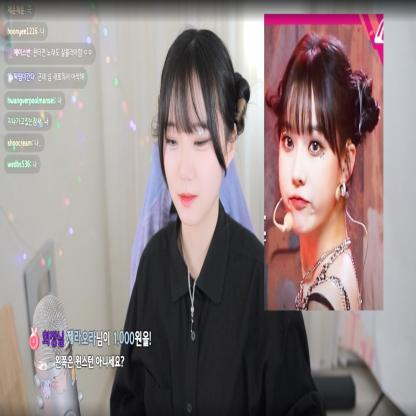donation: (26, 319, 159, 377)
streamer: (110, 27, 263, 416)
